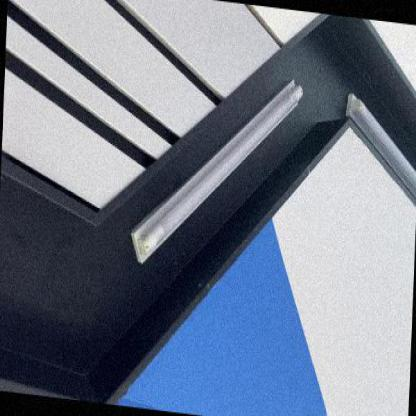light_off: (123, 40, 309, 295), (334, 61, 416, 261)
